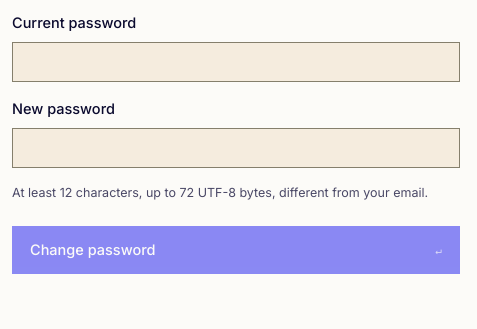
Test case: AUTH-08 sends current/new password and clears fields on success
In the password field labelled "Current password": (236,62) [12, 42, 460, 82], type "the current password"
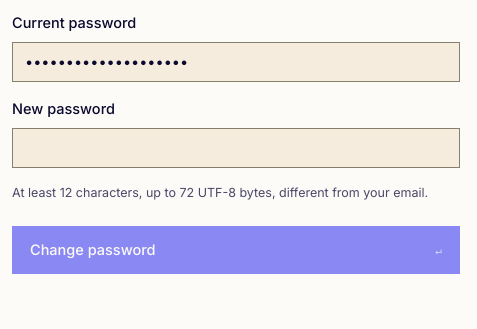
In the password field labelled "New password": (236,148) [12, 128, 460, 168], type "the replacement password"
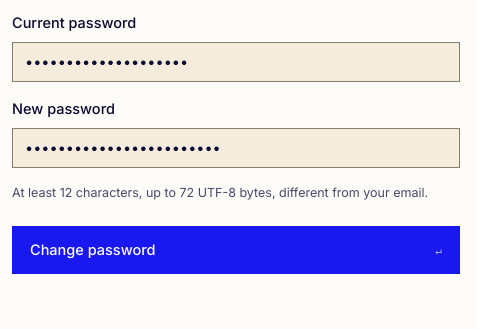
Click the button "Change password ↵": (93,250) [12, 226, 460, 274]
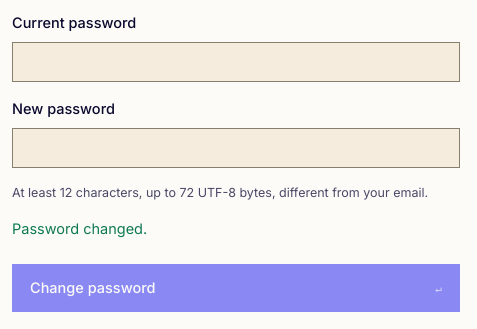
Check: the message shows "Password changed", box [12, 220, 147, 237]
Check: the password field labelled "Current password" is empty, box [12, 42, 460, 82]
